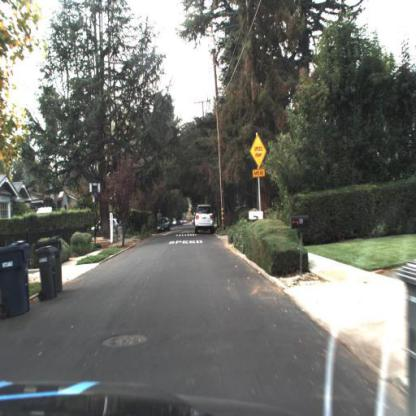car: (192, 203, 217, 234), (155, 216, 173, 237)
